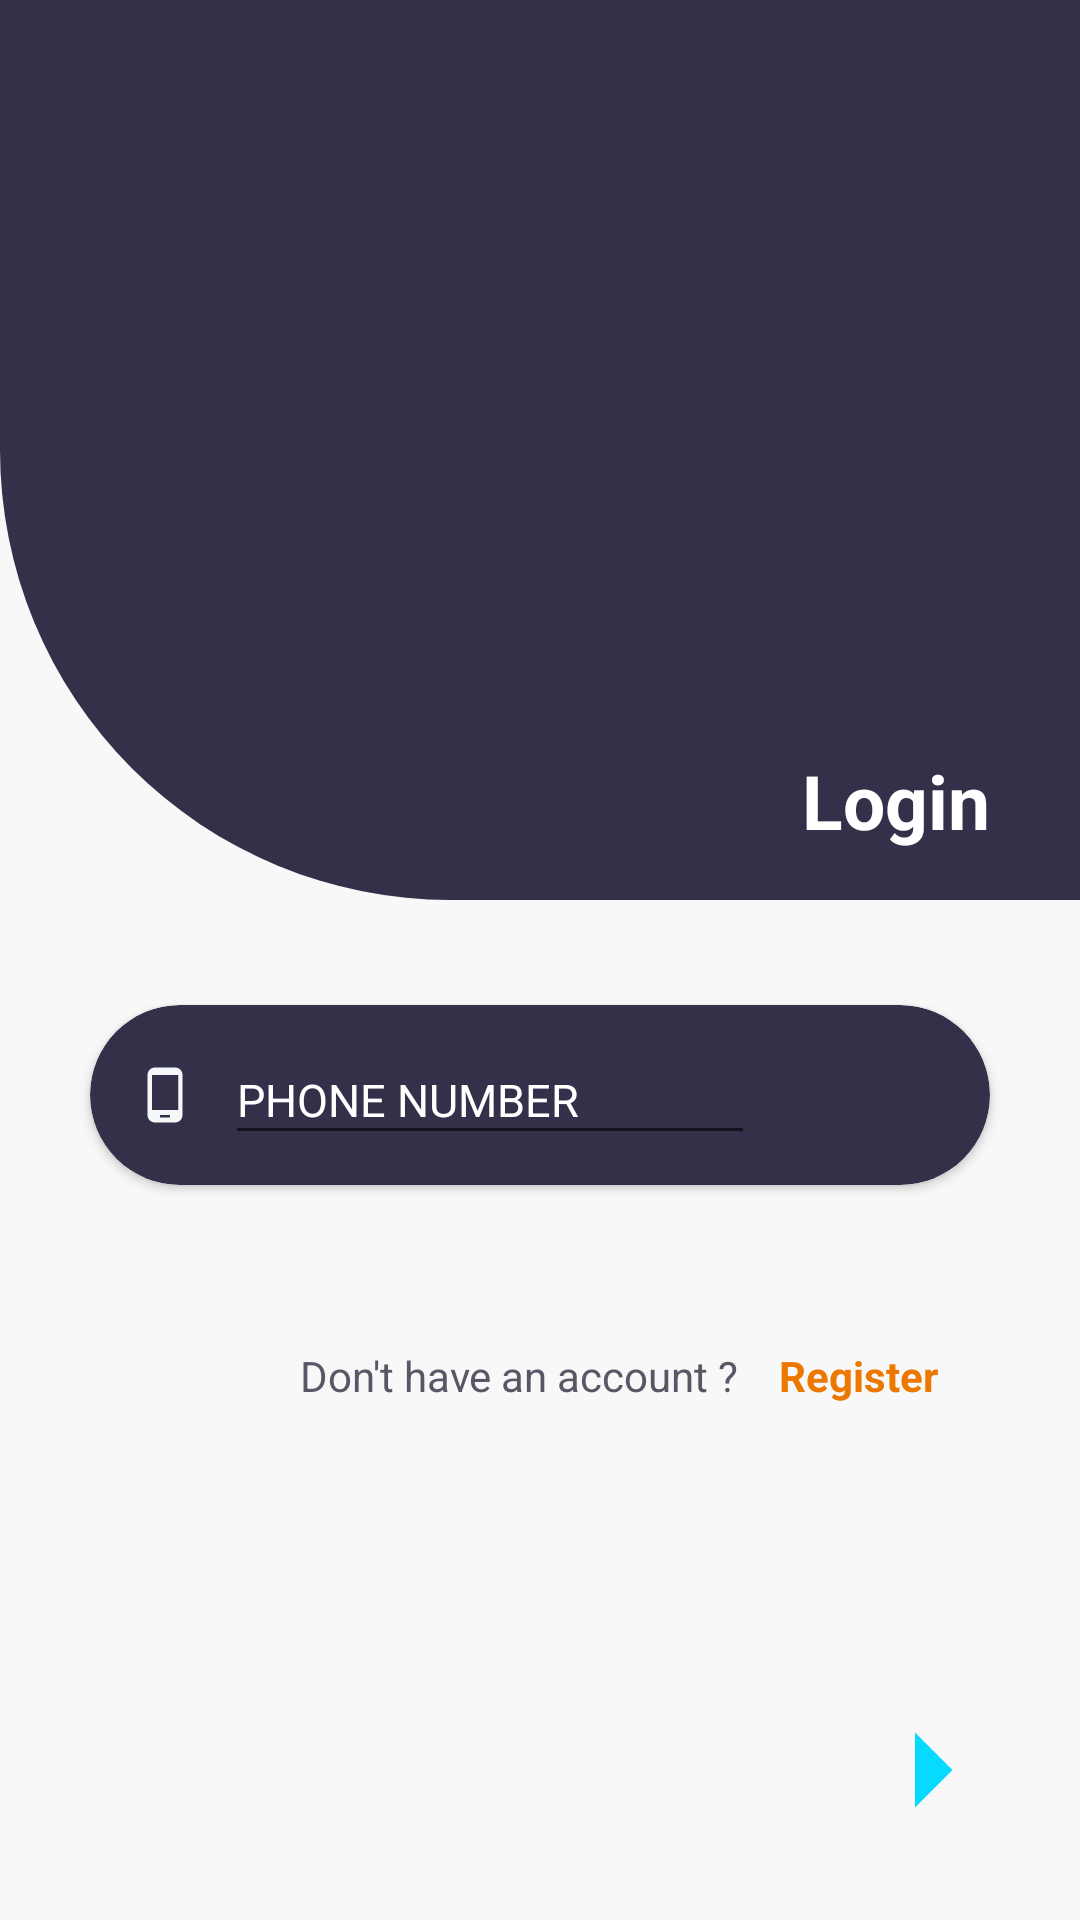

Where icons sit on this 1080 x 1920 app screen, as (x1, y1, x2, y2):
arrow right: (915, 1732, 953, 1808)
phone android: (147, 1067, 183, 1123)
